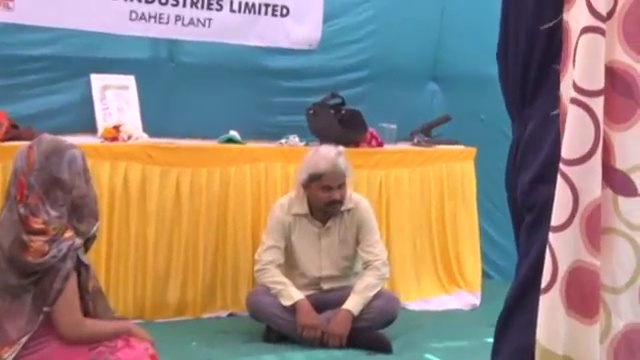helmet_off: (12, 138, 93, 224), (298, 148, 349, 219)
person: (1, 137, 161, 360), (246, 144, 402, 352), (492, 1, 567, 360)
